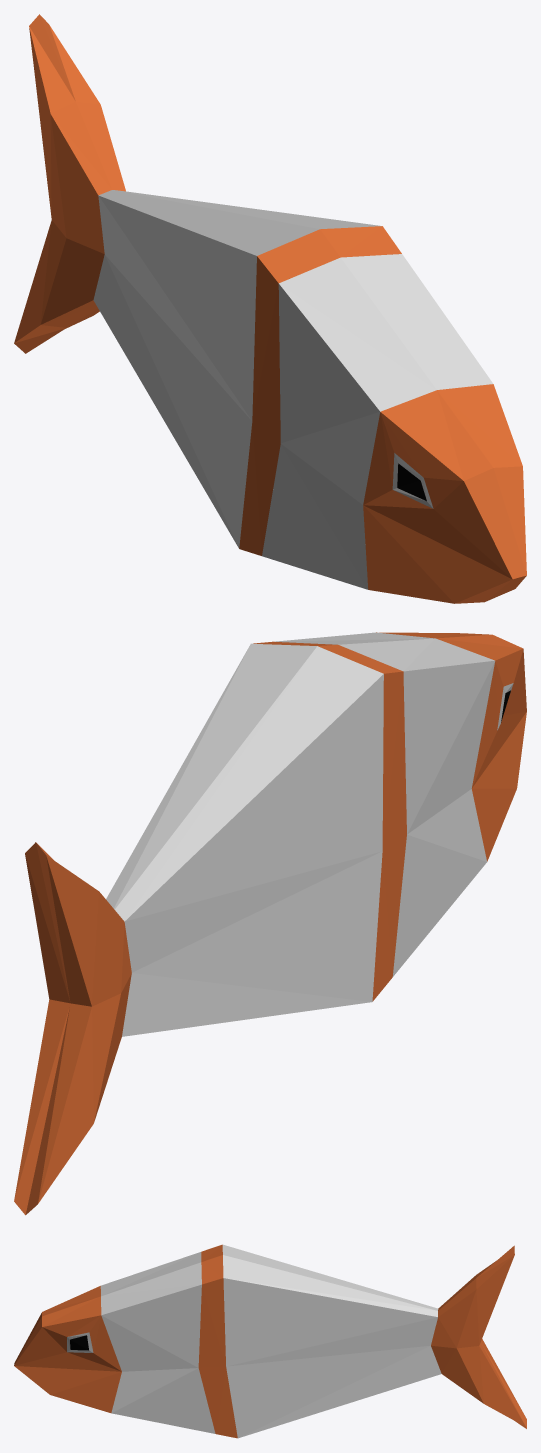
Rendered from Ingredient5.fbx.
3 renders of one model, top to bottom at view 1: azimuth 30°, elevation 25°; view 2: azimuth 150°, elevation 25°; view 3: azimuth 270°, elevation 25°, orthographic. The views are drawn at different scales.
Parts seen in each view (by area): view 1: Fish; view 2: Fish; view 3: Fish.
Part boxes in pixels (bbox=[...]): Fish: bbox=[14, 14, 526, 603]; Fish: bbox=[14, 632, 526, 1215]; Fish: bbox=[14, 1244, 526, 1438].
Bounding box in the file's own units: 25.6 × 65.55 × 165.
